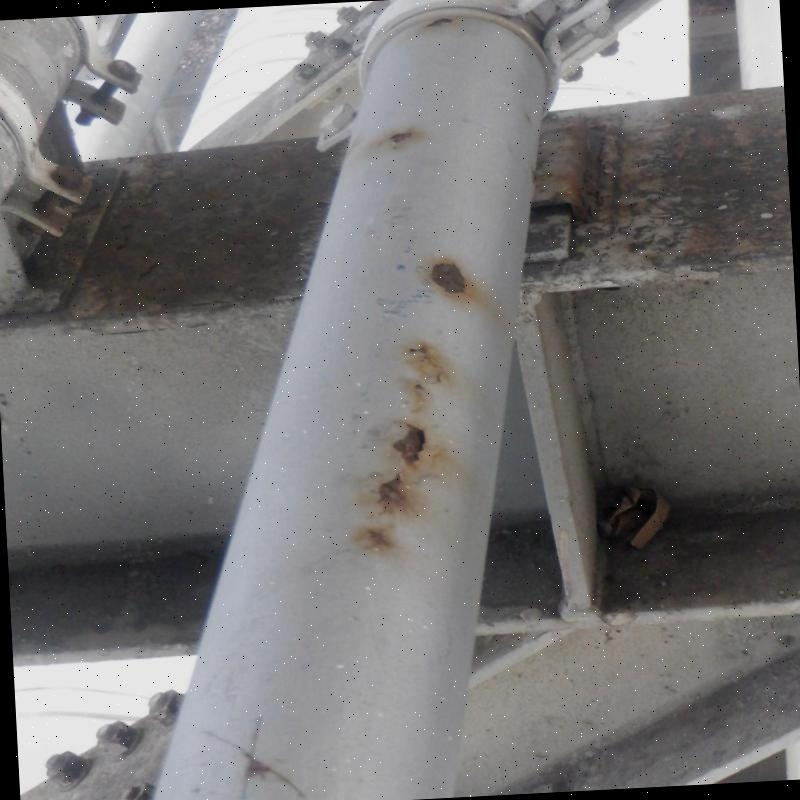corrosion: (362, 440, 408, 546), (404, 340, 456, 414), (424, 256, 481, 305), (380, 117, 427, 152)
